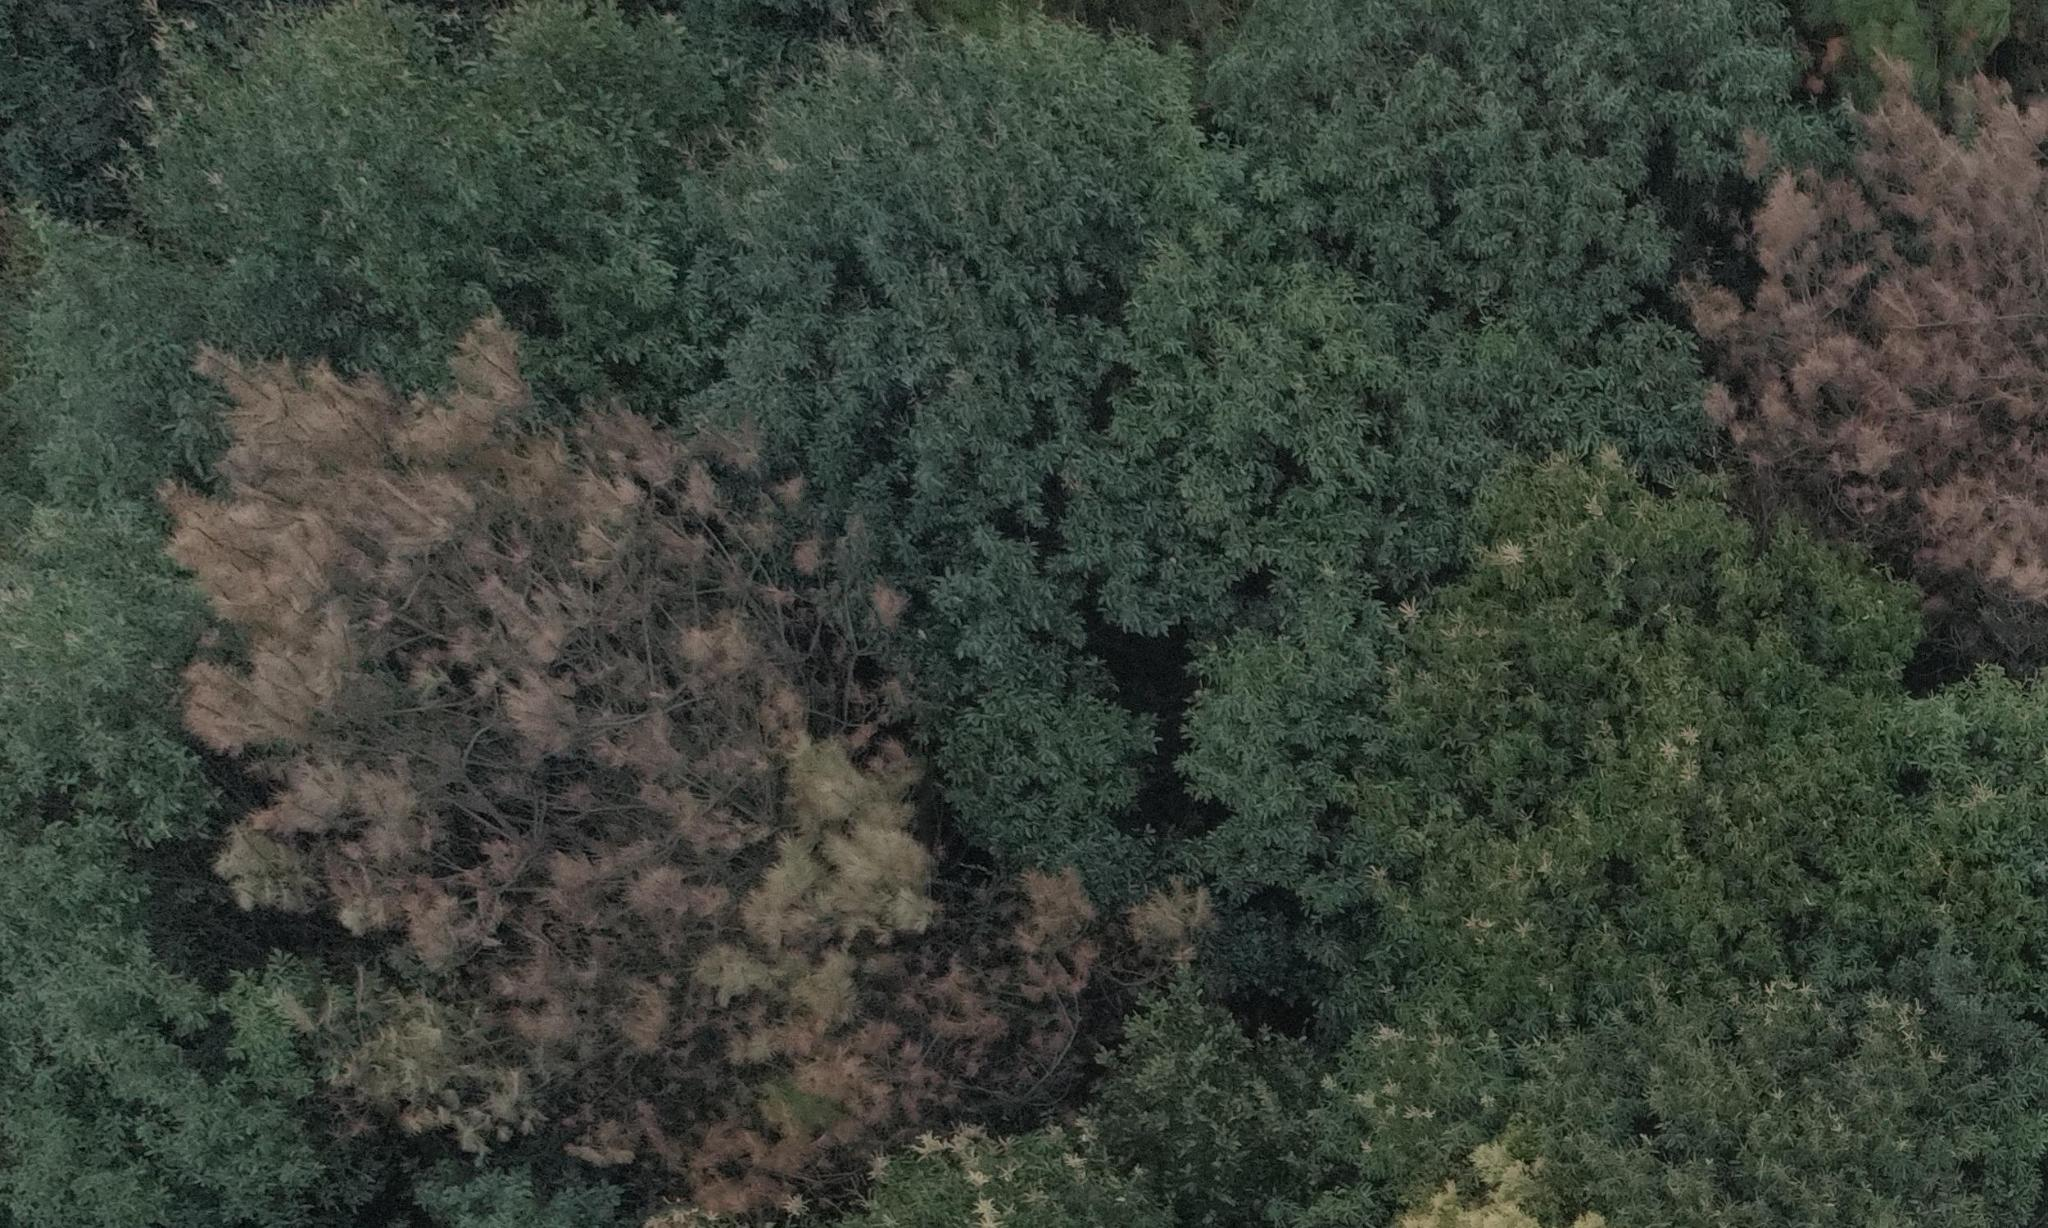heavy: (159, 355, 1000, 1202), (1710, 80, 2048, 610)
